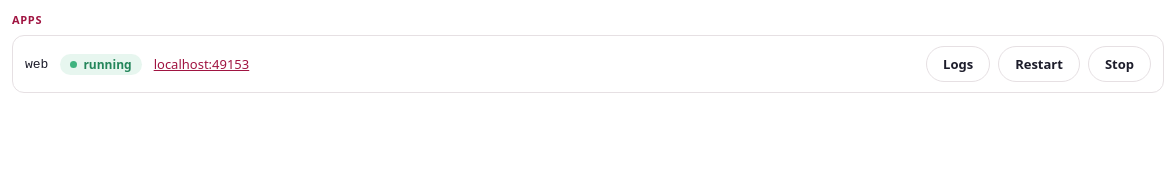
Scenario: AppsSection › an action error shows as an alert
Click the button "Stop" at (1119, 64), box [1088,46,1151,82]
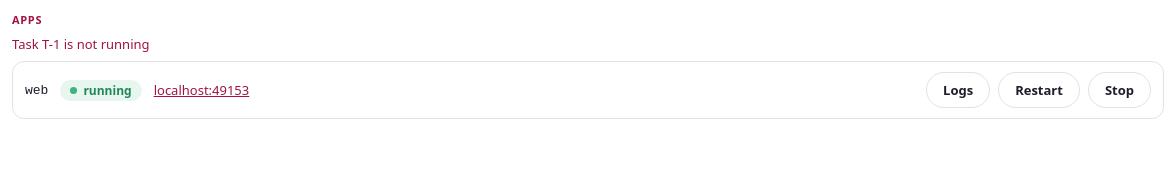
Now the message reads "Task T-1 is not running", box [12,35,150,53]
